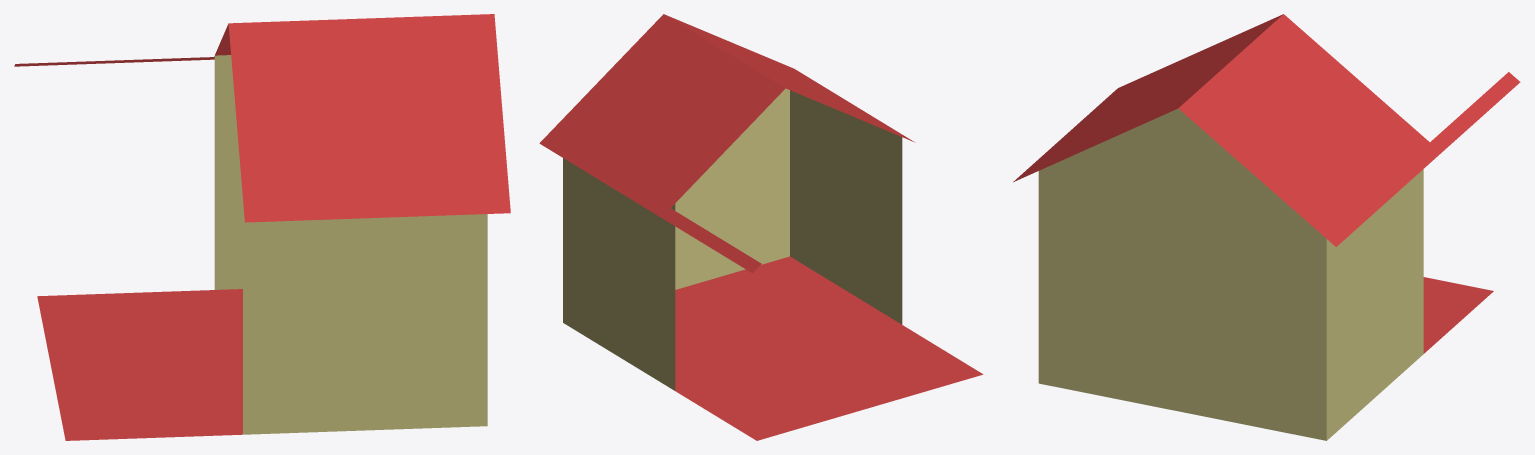
3 renders of one model, left to right at view 1: azimuth 30°, elevation 25°; view 2: azimuth 150°, elevation 25°; view 3: azimuth 270°, elevation 25°, orthographic. The views are drawn at different scales.
Bounding box in the file's own units: 13.04 × 12.82 × 8.69.
